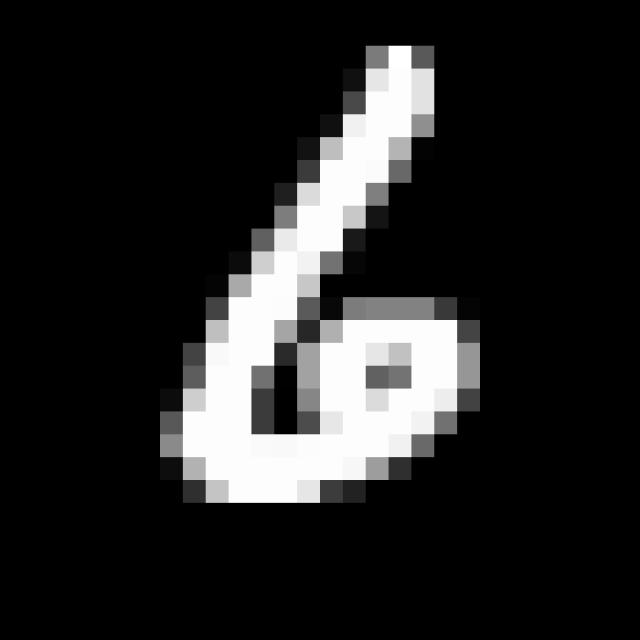six -6-: (158, 39, 484, 511)
